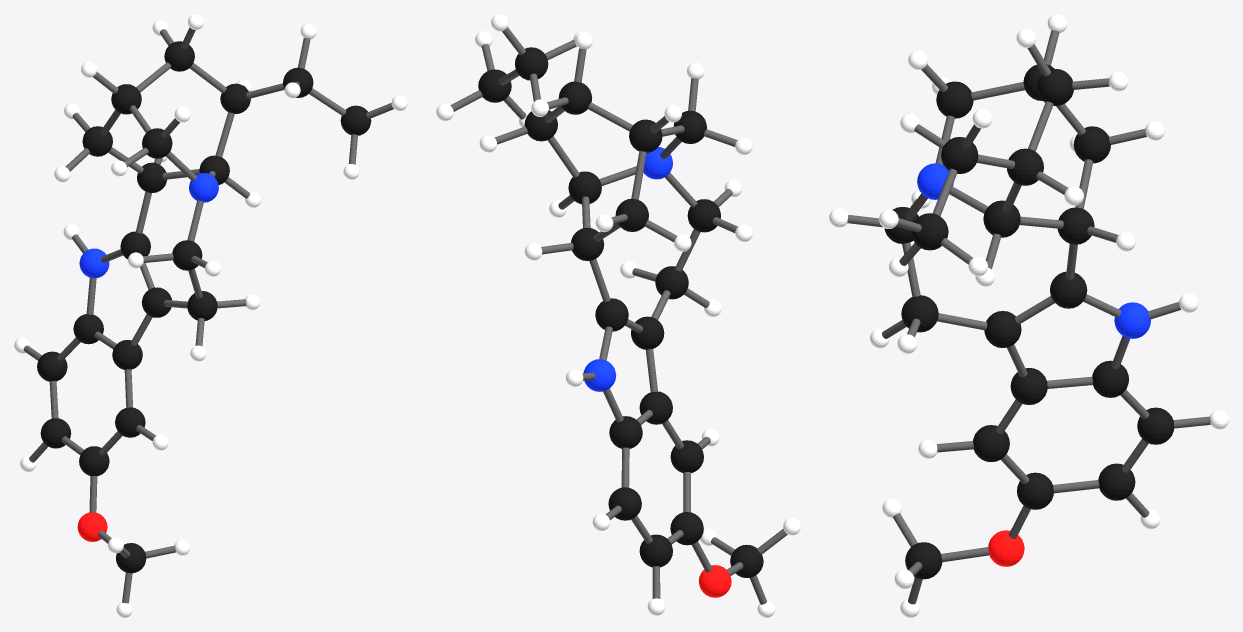
The model's file is molecule.glb.
3 renders of one model, left to right at view 1: azimuth 30°, elevation 25°; view 2: azimuth 150°, elevation 25°; view 3: azimuth 270°, elevation 25°, orthographic. The views are drawn at different scales.
Visible parts, largest first — view 1: geometry_4, geometry_2, geometry_3, geometry_13, geometry_21, geometry_22, geometry_15, geometry_5, geometry_20, geometry_8, geometry_16, geometry_11 (+11 smaller); view 2: geometry_5, geometry_7, geometry_22, geometry_3, geometry_10, geometry_14, geometry_0, geometry_16, geometry_9, geometry_12, geometry_17, geometry_21 (+11 smaller); view 3: geometry_8, geometry_22, geometry_3, geometry_21, geometry_2, geometry_7, geometry_18, geometry_4, geometry_5, geometry_16, geometry_19, geometry_6 (+10 smaller).
Part boxes in pixels (bbox=[...]): geometry_4: bbox=[112, 340, 142, 369]; geometry_2: bbox=[79, 446, 109, 476]; geometry_3: bbox=[115, 407, 145, 437]; geometry_13: bbox=[220, 83, 250, 113]; geometry_21: bbox=[37, 351, 67, 381]; geometry_22: bbox=[40, 418, 71, 448]; geometry_15: bbox=[340, 105, 371, 135]; geometry_5: bbox=[73, 314, 103, 344]; geometry_20: bbox=[137, 162, 166, 192]; geometry_8: bbox=[141, 287, 171, 317]; geometry_16: bbox=[164, 41, 194, 71]; geometry_11: bbox=[189, 173, 218, 202]; geometry_5: bbox=[609, 416, 642, 448]; geometry_7: bbox=[595, 298, 628, 331]; geometry_22: bbox=[639, 534, 672, 567]; geometry_3: bbox=[670, 440, 703, 473]; geometry_10: bbox=[687, 199, 720, 232]; geometry_14: bbox=[515, 47, 548, 80]; geometry_0: bbox=[698, 565, 731, 597]; geometry_16: bbox=[558, 81, 591, 114]; geometry_9: bbox=[655, 266, 688, 299]; geometry_12: bbox=[568, 171, 601, 204]; geometry_17: bbox=[629, 119, 662, 152]; geometry_21: bbox=[608, 487, 641, 520]; geometry_8: bbox=[984, 311, 1021, 347]; geometry_22: bbox=[1098, 463, 1135, 500]; geometry_3: bbox=[973, 425, 1009, 461]; geometry_21: bbox=[1137, 407, 1174, 444]; geometry_2: bbox=[1017, 472, 1053, 509]; geometry_7: bbox=[1050, 271, 1087, 308]; geometry_18: bbox=[936, 81, 973, 118]; geometry_4: bbox=[1010, 368, 1047, 404]; geometry_5: bbox=[1092, 360, 1128, 397]; geometry_16: bbox=[1037, 69, 1073, 105]; geometry_19: bbox=[1073, 126, 1110, 163]; geometry_6: bbox=[1114, 302, 1150, 338].
Size of the model in its own units: 0.148 by 0.257 by 0.1414.
